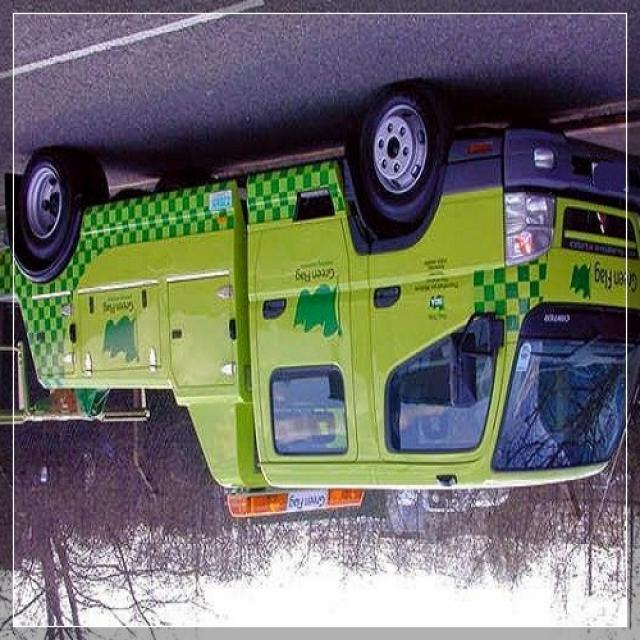truck: (0, 79, 622, 520)
